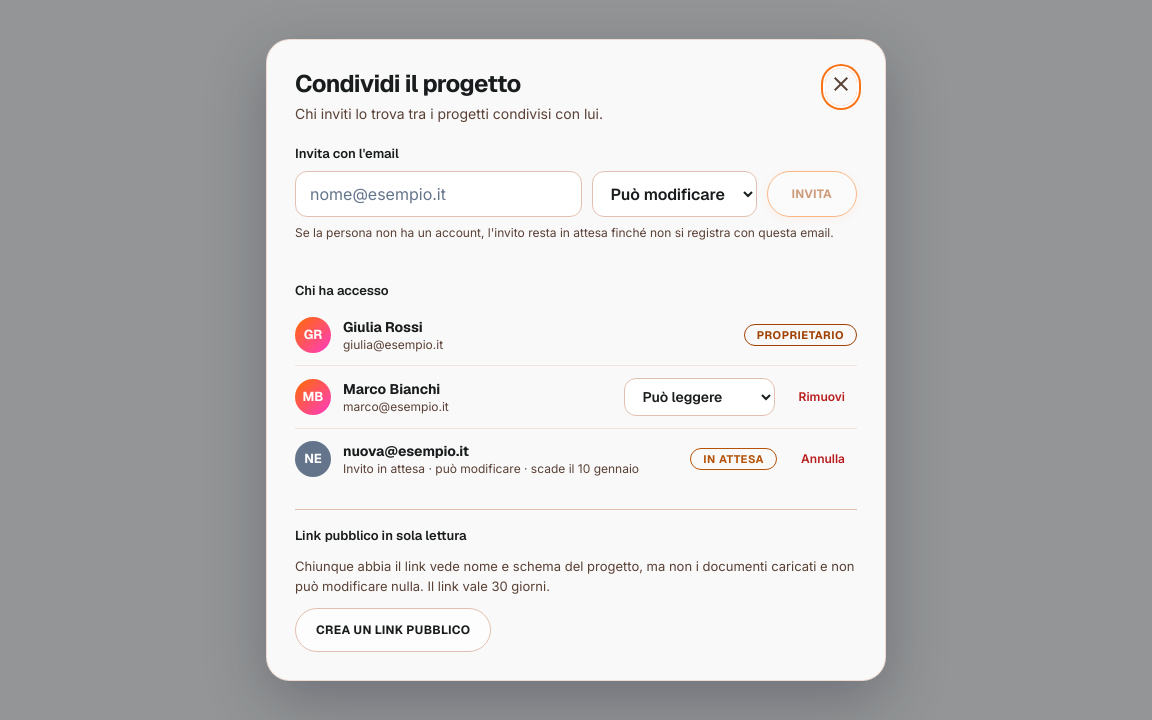
Test: ShareDialog › invita per email con il ruolo scelto
Check: the text "Marco Bianchi" is shown, box [343, 380, 440, 398]
In the field labelled "Invita con l'email": (438, 194) [295, 171, 582, 217], type "ada@esempio.it"
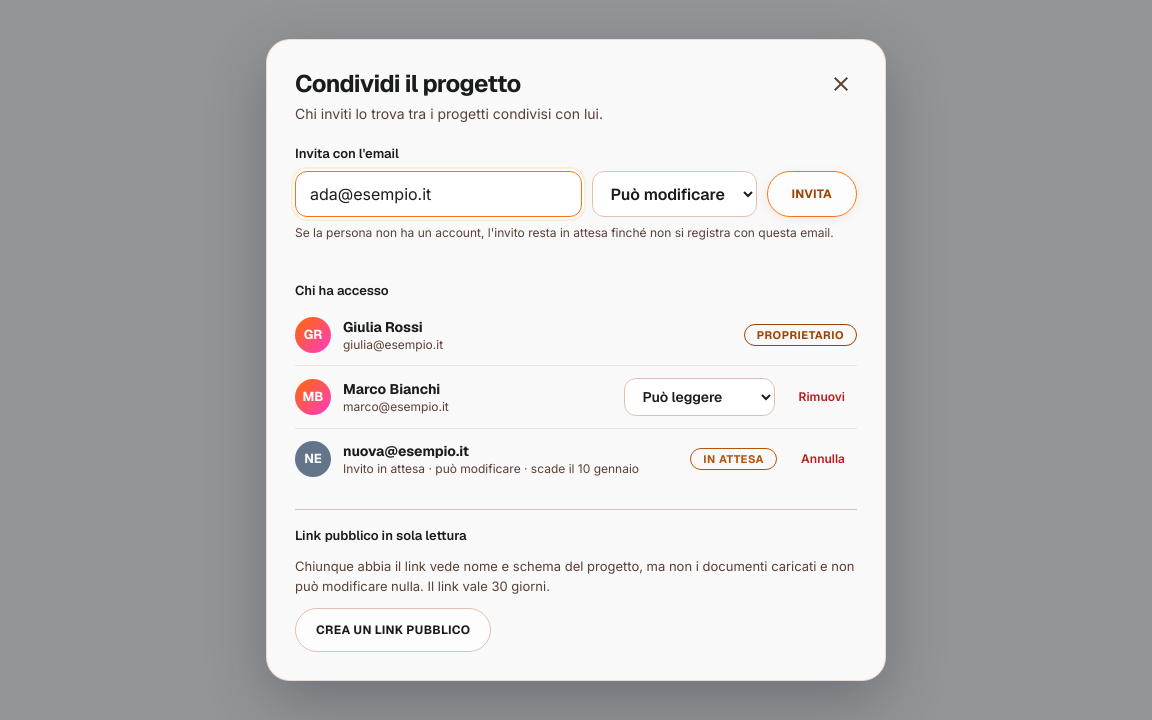
Select "Può leggere" in the dropdown named "Ruolo dell'invitato": (674, 194) [592, 171, 757, 217]
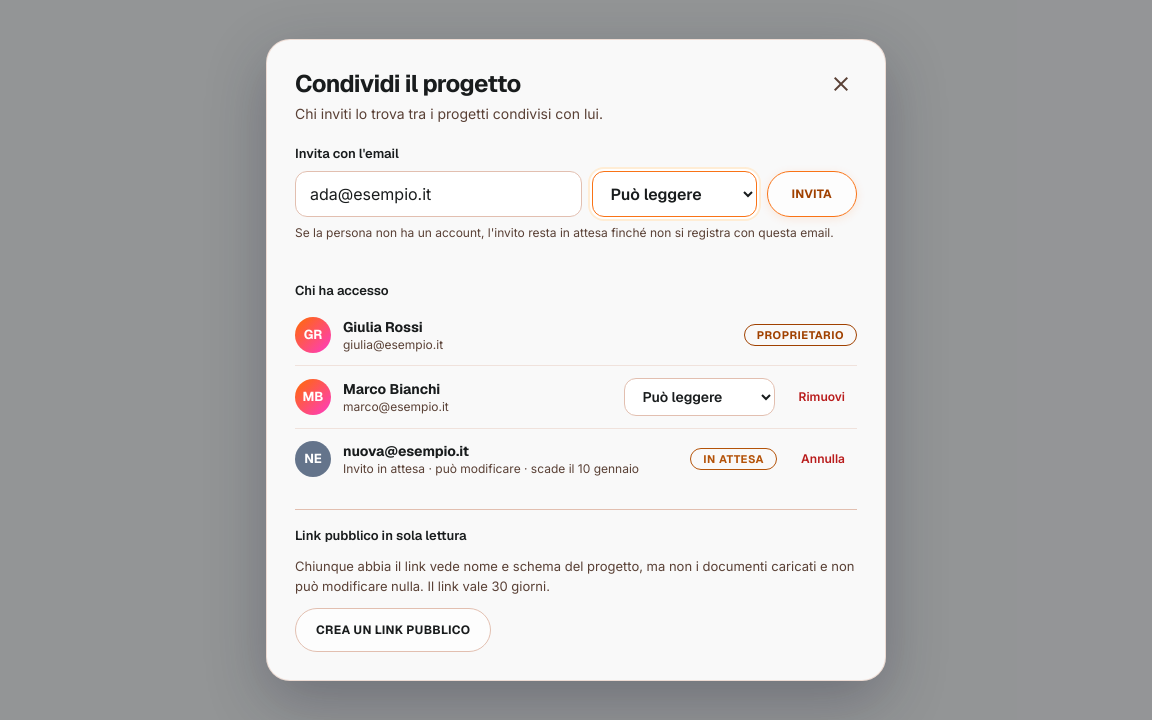
Click the button "Invita": (812, 194) [767, 171, 857, 217]
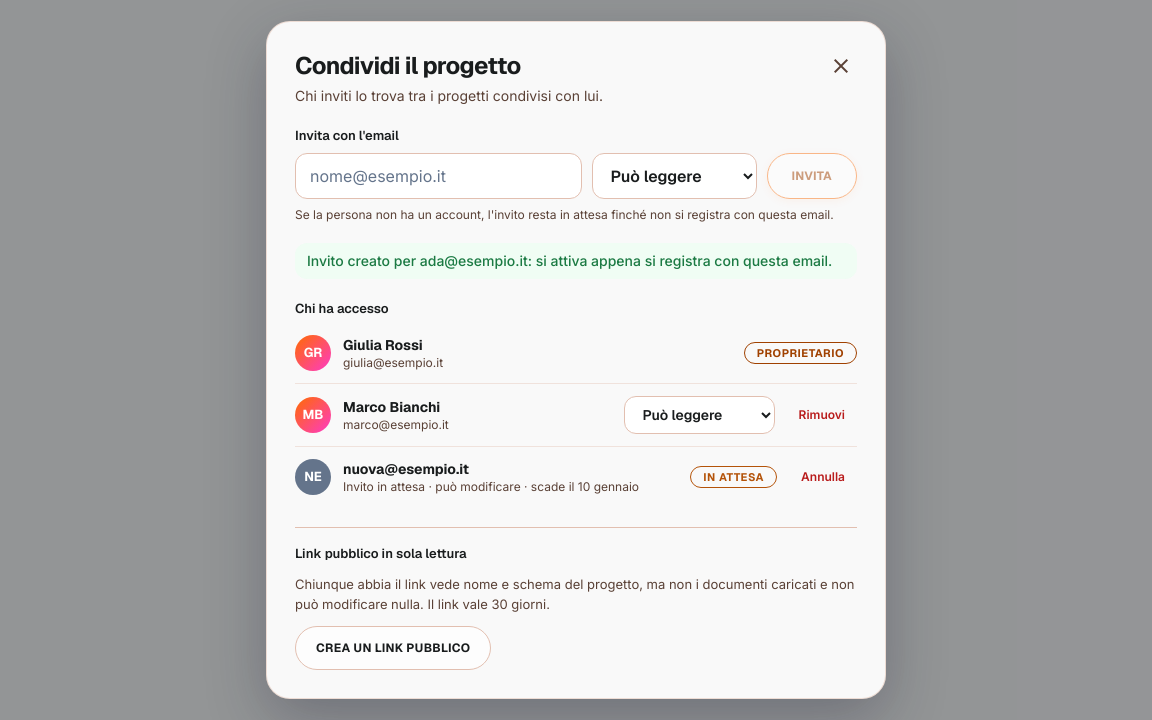
Check: the text "si attiva appena si registra" is shown, box [307, 252, 832, 269]
